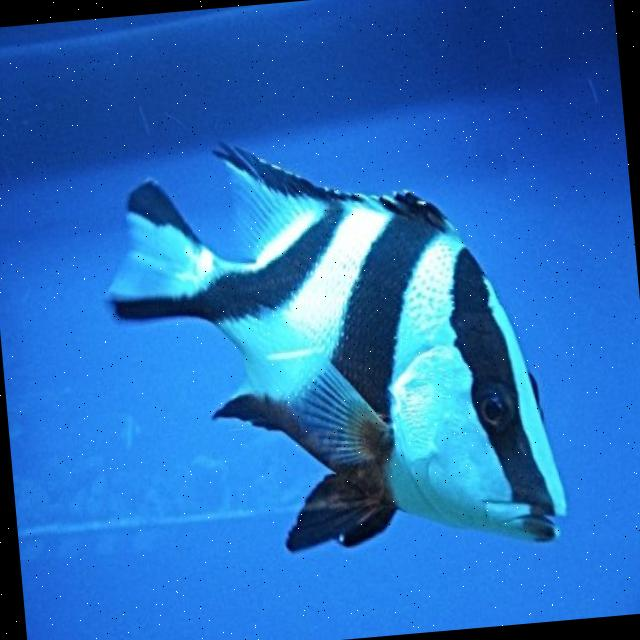ikan: (90, 109, 570, 578)
